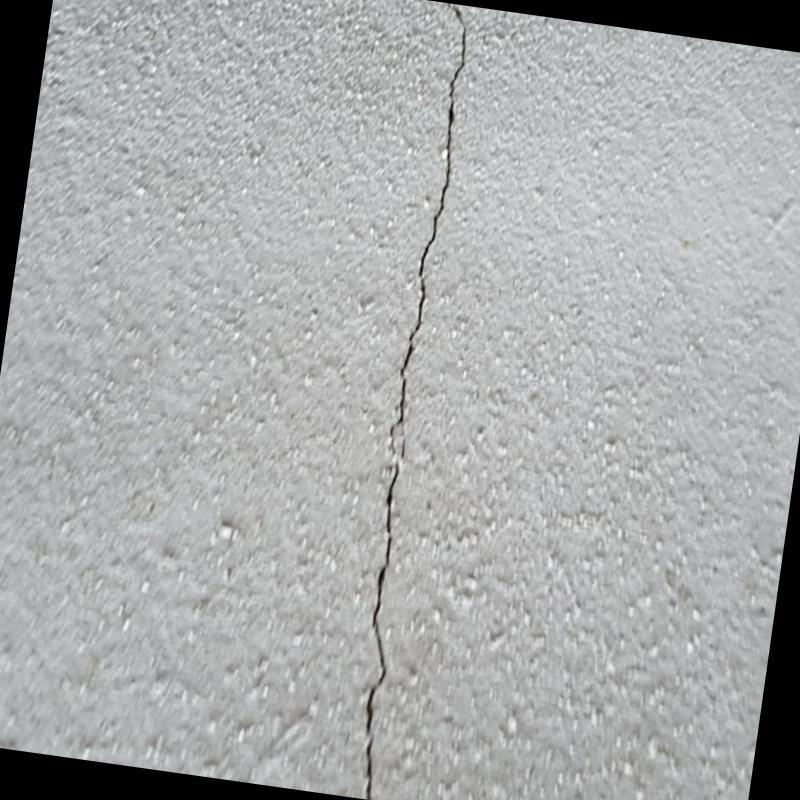crack: (364, 4, 467, 799)
